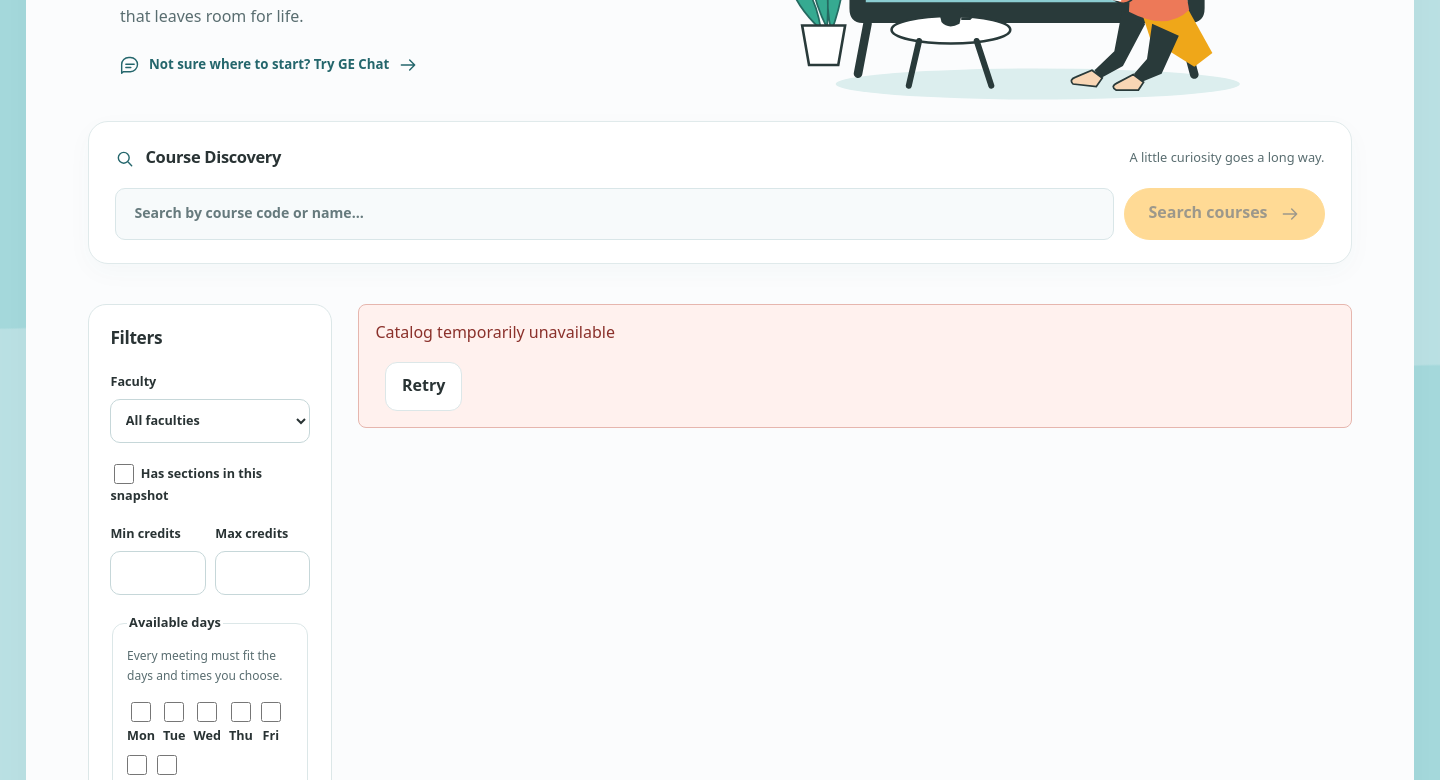
shows network errors and supports retry
(page scrolled)
expect the text "Catalog temporarily unavailable" is shown: met, box [376,321,615,345]
Click the button "Retry" at (424, 387), box [385,362,462,411]
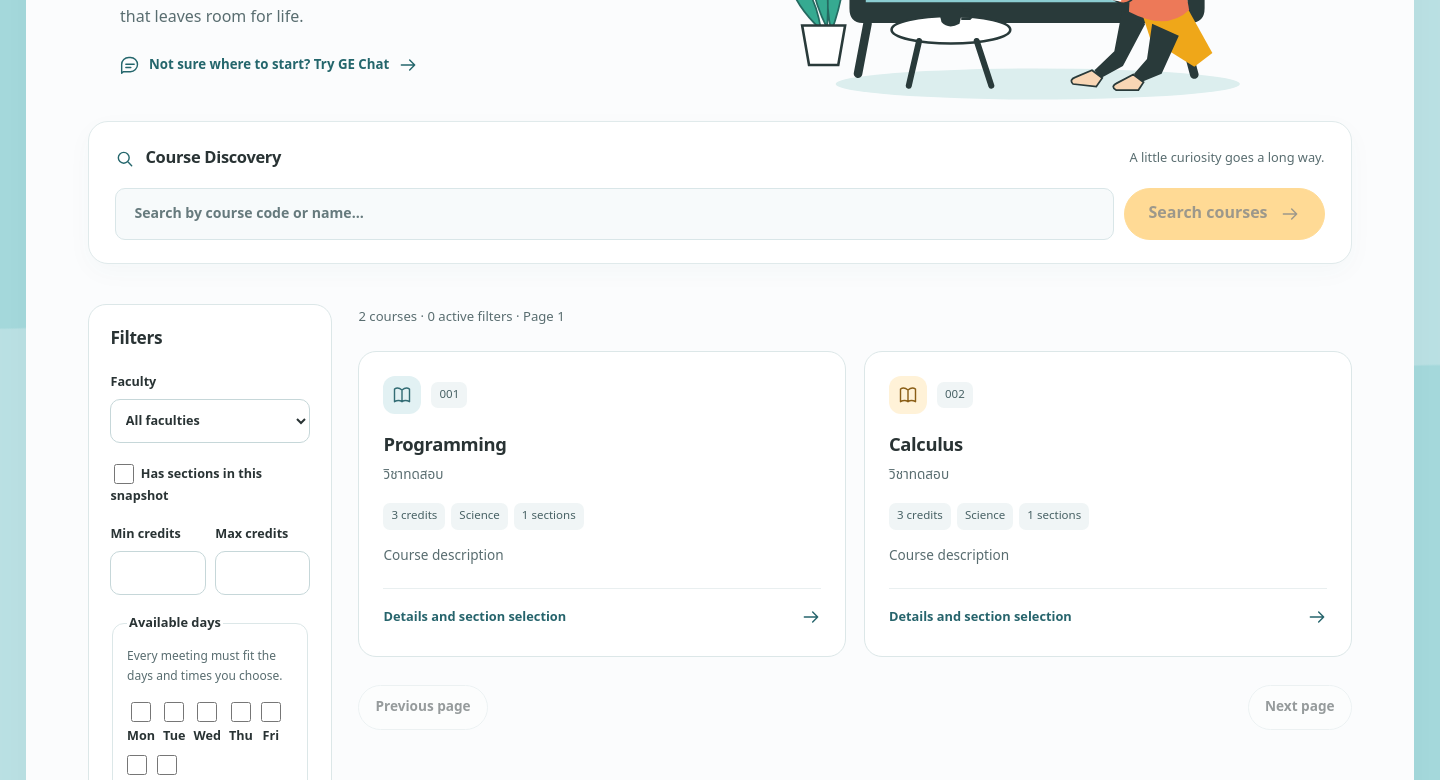
expect the link "Programming" is shown: met, box [384,431,507,459]
